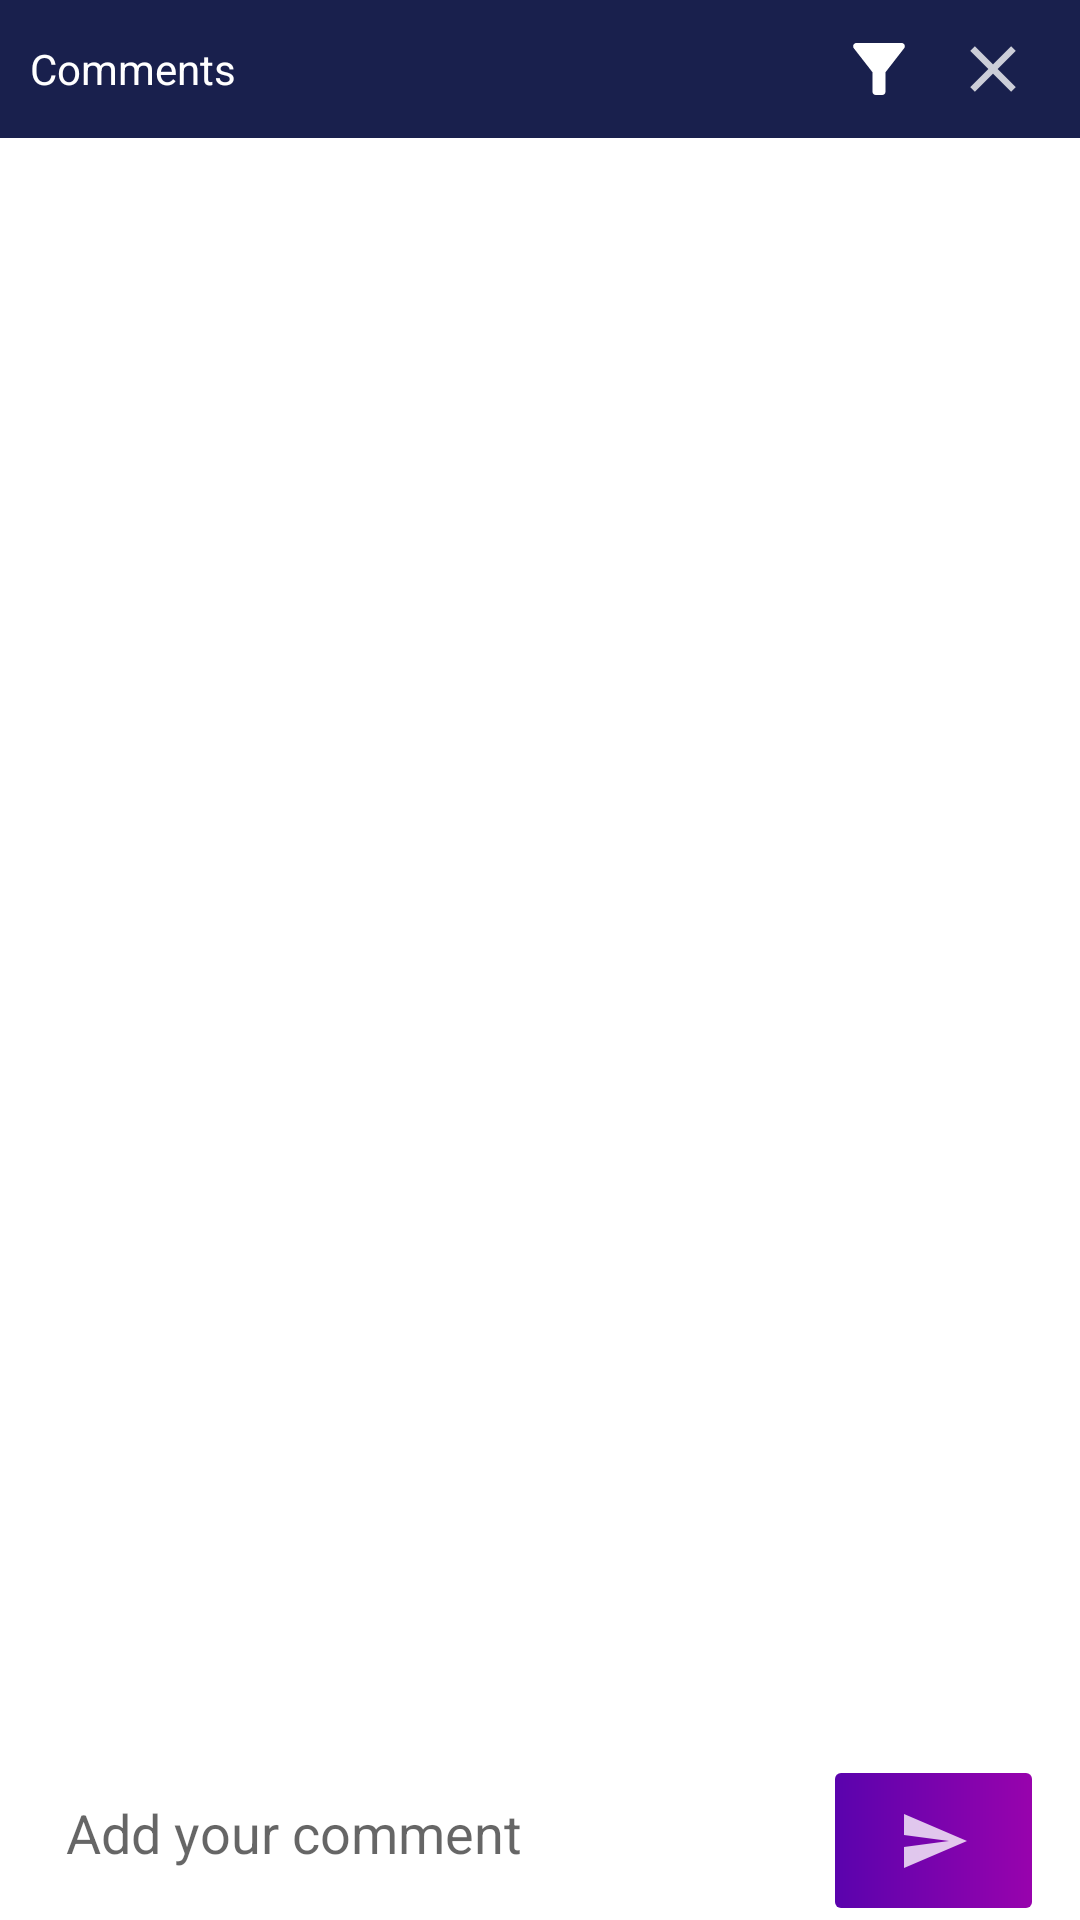

Point at icon controls on the screen. Image size 1080w x 1920h, points as (x,y).
close: (993,69)
filter: (879,69)
send: (933,1840)
